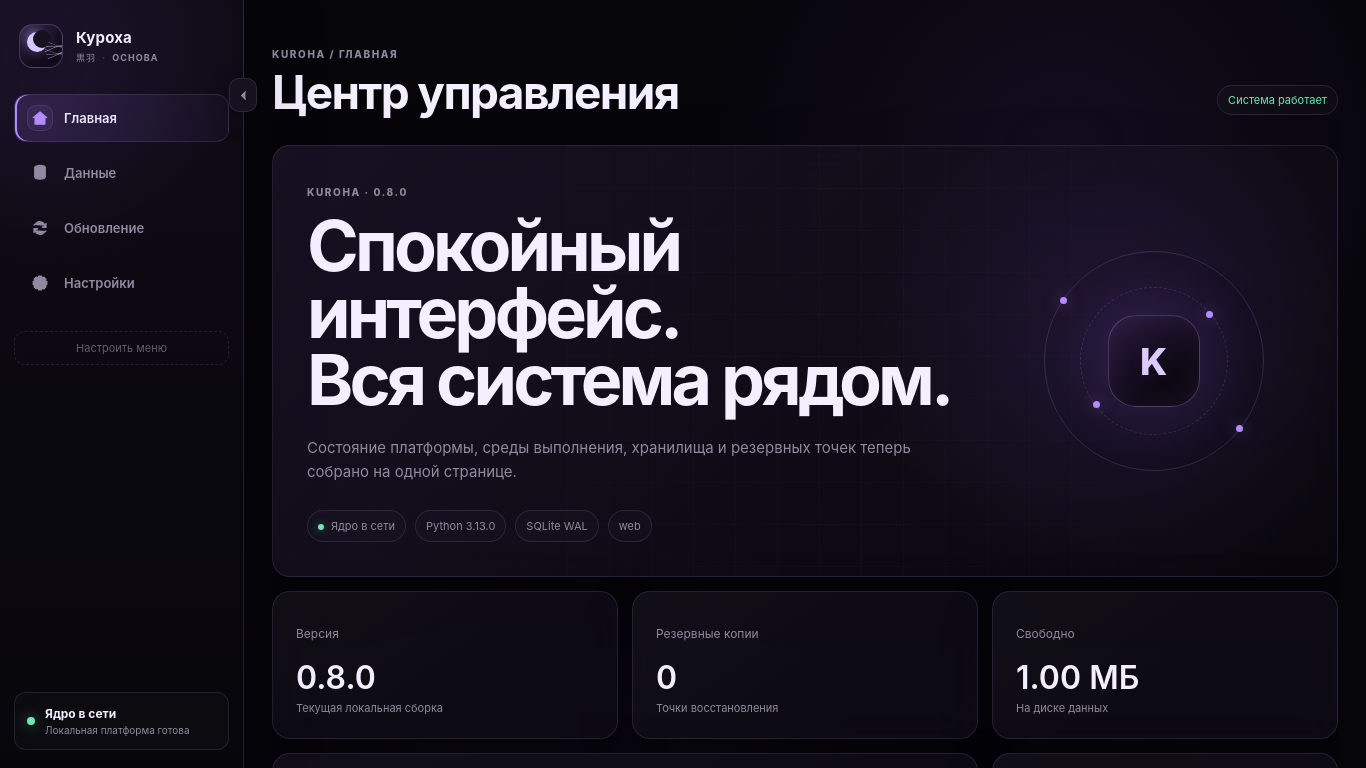
Test: App › opens unified data workspace from navigation
Expected: the text "Куроха" is shown, [76,28,132,47]
Click the link "Данные": click(74, 173) [31,164,116,182]
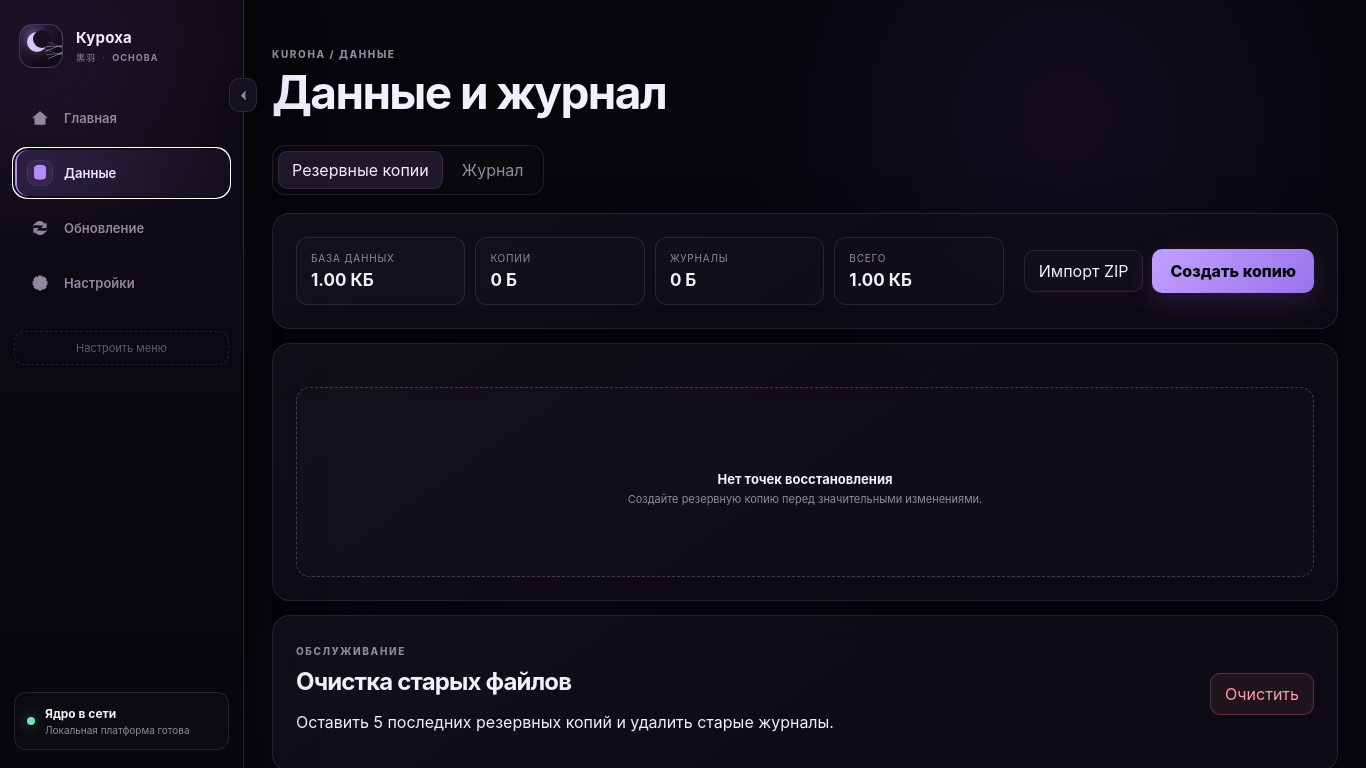
Expected: the button "Резервные копии" is shown, [278,151,443,189]
Expected: the button "Журнал" is shown, [448,151,538,189]
